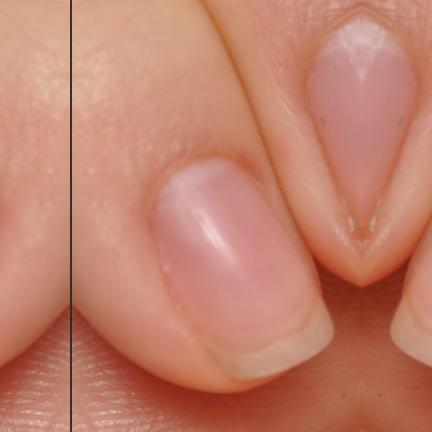Nail: (151, 158, 334, 380), (308, 20, 360, 228), (362, 20, 414, 228), (388, 236, 432, 367)
